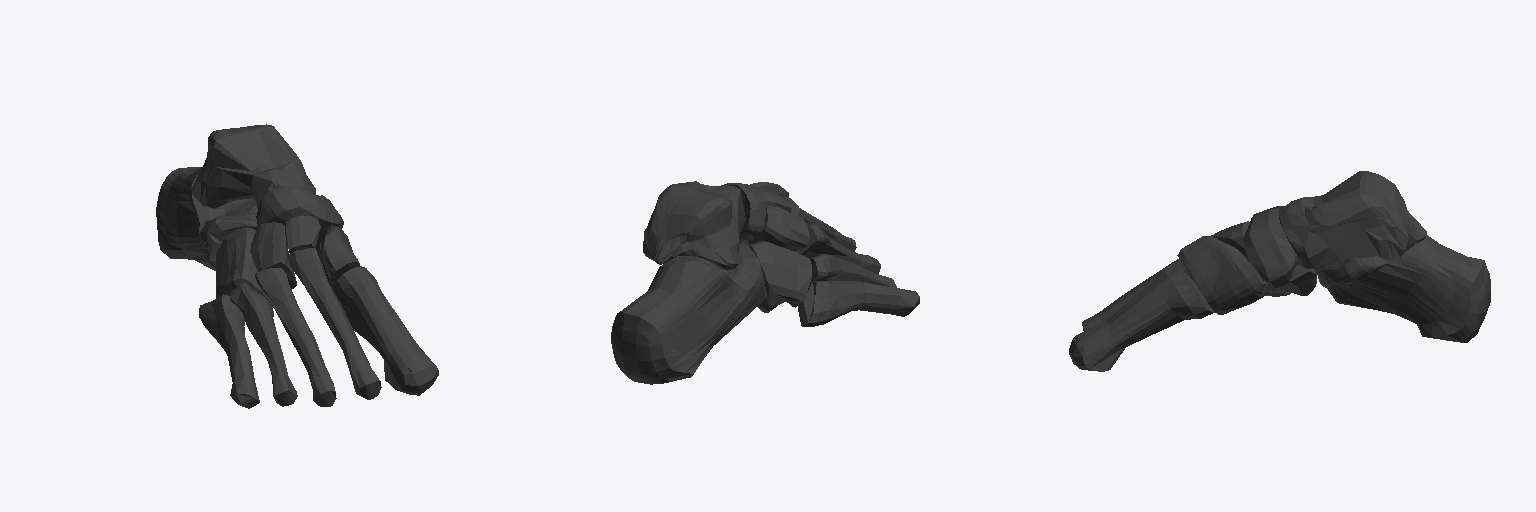
The model's file is R_Talus.obj.
3 views of the same model, side by side, from view 1: azimuth 30°, elevation 25°; view 2: azimuth 150°, elevation 25°; view 3: azimuth 270°, elevation 25° (orthographic).
Bounding box in the file's own units: 8.25 × 8.06 × 17.55.